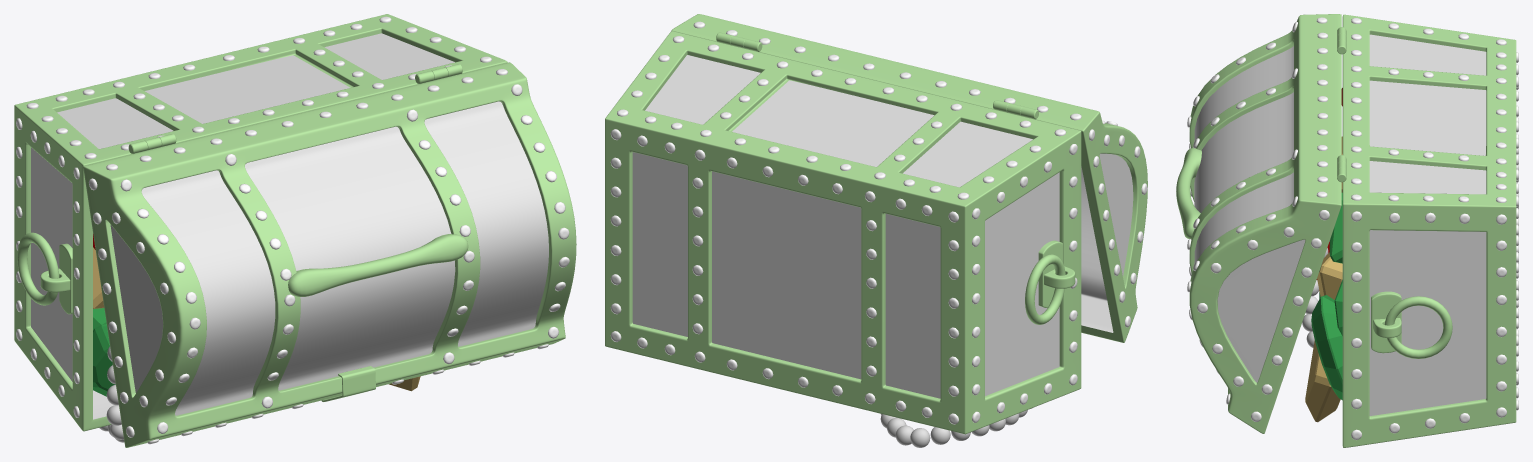
The model's file is takaraG.fbx.
3 views of the same model, side by side, from view 1: azimuth 30°, elevation 25°; view 2: azimuth 150°, elevation 25°; view 3: azimuth 270°, elevation 25° (orthographic). The views are drawn at different scales.
Visible parts, largest first — view 1: _aquarium_treasure_chest_v1_L2:aquarium_treasure_chest_wood, _aquarium_treasure_chest_v1_L2:aquarium_treasure_chest_metal, _aquarium_treasure_chest_v1_L2:aquarium_treasure_chest_bolts, _aquarium_treasure_chest_v1_L2:aquarium_treasure_chest_latch, _aquarium_treasure_chest_v1_L2:aquarium_treasure_chest_stone (×2), _aquarium_treasure_chest_v1_L2:aquarium_treasure_chest_pearl; view 2: _aquarium_treasure_chest_v1_L2:aquarium_treasure_chest_metal, _aquarium_treasure_chest_v1_L2:aquarium_treasure_chest_wood, _aquarium_treasure_chest_v1_L2:aquarium_treasure_chest_bolts, _aquarium_treasure_chest_v1_L2:aquarium_treasure_chest_latch, _aquarium_treasure_chest_v1_L2:aquarium_treasure_chest_pearl; view 3: _aquarium_treasure_chest_v1_L2:aquarium_treasure_chest_metal, _aquarium_treasure_chest_v1_L2:aquarium_treasure_chest_wood, _aquarium_treasure_chest_v1_L2:aquarium_treasure_chest_bolts, _aquarium_treasure_chest_v1_L2:aquarium_treasure_chest_stone (×2), _aquarium_treasure_chest_v1_L2:aquarium_treasure_chest_latch, _aquarium_treasure_chest_v1_L2:aquarium_treasure_chest_pearl.
Boxes of the visible parts, <box> form: _aquarium_treasure_chest_v1_L2:aquarium_treasure_chest_wood: <box>31,33,548,419</box>; _aquarium_treasure_chest_v1_L2:aquarium_treasure_chest_metal: <box>14,14,576,447</box>; _aquarium_treasure_chest_v1_L2:aquarium_treasure_chest_bolts: <box>16,16,569,444</box>; _aquarium_treasure_chest_v1_L2:aquarium_treasure_chest_latch: <box>40,64,462,401</box>; _aquarium_treasure_chest_v1_L2:aquarium_treasure_chest_stone (×2): <box>93,247,420,396</box>; _aquarium_treasure_chest_v1_L2:aquarium_treasure_chest_pearl: <box>99,346,124,442</box>; _aquarium_treasure_chest_v1_L2:aquarium_treasure_chest_metal: <box>605,14,1147,434</box>; _aquarium_treasure_chest_v1_L2:aquarium_treasure_chest_wood: <box>632,55,1133,398</box>; _aquarium_treasure_chest_v1_L2:aquarium_treasure_chest_bolts: <box>610,21,1147,424</box>; _aquarium_treasure_chest_v1_L2:aquarium_treasure_chest_latch: <box>716,32,1075,307</box>; _aquarium_treasure_chest_v1_L2:aquarium_treasure_chest_pearl: <box>880,408,1032,447</box>; _aquarium_treasure_chest_v1_L2:aquarium_treasure_chest_metal: <box>1176,14,1516,447</box>; _aquarium_treasure_chest_v1_L2:aquarium_treasure_chest_wood: <box>1194,34,1486,415</box>; _aquarium_treasure_chest_v1_L2:aquarium_treasure_chest_bolts: <box>1187,17,1518,440</box>; _aquarium_treasure_chest_v1_L2:aquarium_treasure_chest_stone (×2): <box>1305,136,1342,422</box>; _aquarium_treasure_chest_v1_L2:aquarium_treasure_chest_latch: <box>1337,27,1401,353</box>; _aquarium_treasure_chest_v1_L2:aquarium_treasure_chest_pearl: <box>1302,241,1329,347</box>.
Size of the model in its own units: 14.7 by 9.57 by 10.43.
